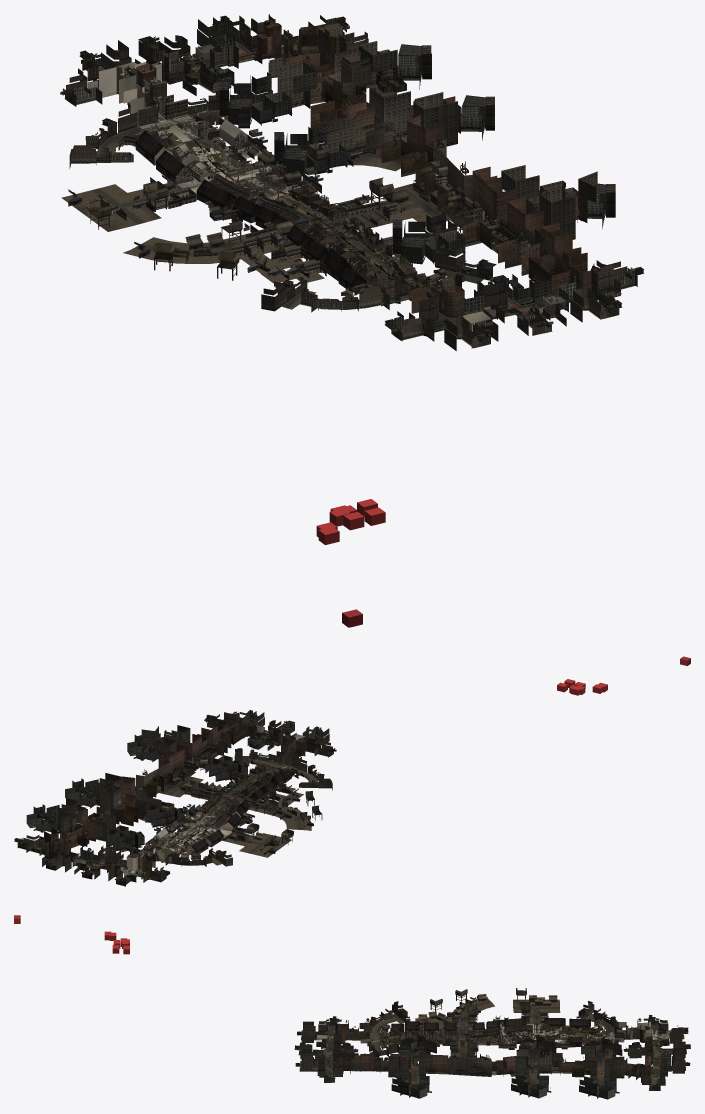
Rendered from city.glb.
The picture shows the model from 3 angles, top to bottom: view 1: azimuth 30°, elevation 25°; view 2: azimuth 150°, elevation 25°; view 3: azimuth 270°, elevation 25°; orthographic projection. The views are drawn at different scales.
Visible parts, largest first — view 1: backdrop_grp_004_mdl_003_sub_000, backdrop_grp_006_mdl_002_sub_000, backdrop_grp_005_mdl_002_sub_000, backdrop_grp_003_mdl_003_sub_000, backdrop_grp_004_mdl_001_sub_000, backdrop_grp_007_mdl_003_sub_000, backdrop_grp_000_mdl_004_sub_000, backdrop_grp_003_mdl_001_sub_000, backdrop_grp_002_mdl_002_sub_000, backdrop_grp_007_mdl_002_sub_000, backdrop_grp_000_mdl_006_sub_000, backdrop_grp_001_mdl_002_sub_000 (+16 smaller); view 2: backdrop_grp_004_mdl_003_sub_000, backdrop_grp_003_mdl_003_sub_000, backdrop_grp_005_mdl_002_sub_000, backdrop_grp_006_mdl_002_sub_000, backdrop_grp_004_mdl_001_sub_000, backdrop_grp_007_mdl_003_sub_000, backdrop_grp_002_mdl_002_sub_000, backdrop_grp_000_mdl_004_sub_000, backdrop_grp_000_mdl_006_sub_000, backdrop_grp_001_mdl_002_sub_000, backdrop_grp_000_mdl_001_sub_000, backdrop_grp_000_mdl_005_sub_000 (+9 smaller); view 3: backdrop_grp_004_mdl_003_sub_000, backdrop_grp_005_mdl_002_sub_000, backdrop_grp_003_mdl_003_sub_000, backdrop_grp_006_mdl_002_sub_000, backdrop_grp_000_mdl_001_sub_000, backdrop_grp_000_mdl_003_sub_000, backdrop_grp_002_mdl_002_sub_000, backdrop_grp_000_mdl_002_sub_000, backdrop_grp_001_mdl_002_sub_000, backdrop_grp_000_mdl_006_sub_000, backdrop_grp_003_mdl_001_sub_000, backdrop_grp_000_mdl_005_sub_000 (+4 smaller).
Boxes of the visible parts, x1,y1,x2,y2 form: backdrop_grp_004_mdl_003_sub_000: (123,214,324,283); backdrop_grp_006_mdl_002_sub_000: (384,274,622,350); backdrop_grp_005_mdl_002_sub_000: (60,15,250,106); backdrop_grp_003_mdl_003_sub_000: (61,174,242,231); backdrop_grp_004_mdl_001_sub_000: (338,159,474,241); backdrop_grp_007_mdl_003_sub_000: (150,109,264,183); backdrop_grp_000_mdl_004_sub_000: (218,72,292,125); backdrop_grp_003_mdl_001_sub_000: (242,115,406,193); backdrop_grp_002_mdl_002_sub_000: (261,276,452,312); backdrop_grp_007_mdl_002_sub_000: (87,55,193,130); backdrop_grp_000_mdl_006_sub_000: (392,211,465,264); backdrop_grp_001_mdl_002_sub_000: (69,101,200,168); backdrop_grp_004_mdl_003_sub_000: (248,782,322,830); backdrop_grp_003_mdl_003_sub_000: (222,812,293,857); backdrop_grp_005_mdl_002_sub_000: (42,846,170,886); backdrop_grp_006_mdl_002_sub_000: (239,710,336,757); backdrop_grp_004_mdl_001_sub_000: (149,756,229,800); backdrop_grp_007_mdl_003_sub_000: (144,825,211,854); backdrop_grp_002_mdl_002_sub_000: (249,754,332,790); backdrop_grp_000_mdl_004_sub_000: (106,825,144,851); backdrop_grp_000_mdl_006_sub_000: (209,755,247,781); backdrop_grp_001_mdl_002_sub_000: (137,848,232,866); backdrop_grp_000_mdl_001_sub_000: (26,804,59,832); backdrop_grp_000_mdl_005_sub_000: (144,801,184,844); backdrop_grp_004_mdl_003_sub_000: (415,989,494,1029); backdrop_grp_005_mdl_002_sub_000: (623,1015,690,1073); backdrop_grp_003_mdl_003_sub_000: (493,988,560,1025); backdrop_grp_006_mdl_002_sub_000: (294,1016,358,1071); backdrop_grp_000_mdl_001_sub_000: (579,1072,619,1099); backdrop_grp_000_mdl_003_sub_000: (511,1071,551,1098); backdrop_grp_002_mdl_002_sub_000: (364,1001,410,1051); backdrop_grp_000_mdl_002_sub_000: (391,1076,431,1098); backdrop_grp_001_mdl_002_sub_000: (576,1001,622,1043); backdrop_grp_000_mdl_006_sub_000: (399,1034,436,1059); backdrop_grp_003_mdl_001_sub_000: (497,1039,569,1076); backdrop_grp_000_mdl_005_sub_000: (516,1034,556,1059).
Size of the model in its own units: 23.26 by 2.16 by 40.83.
Materials: 100 (99 with a texture image).
